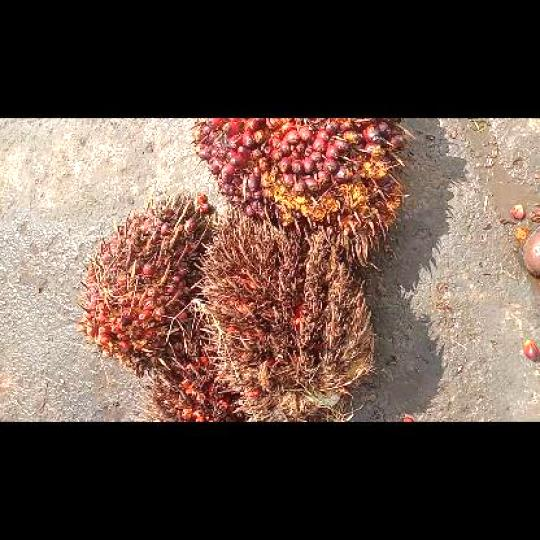masak: (189, 118, 413, 266), (75, 192, 211, 377)
terlalu masak: (195, 204, 376, 422), (134, 335, 245, 420)
